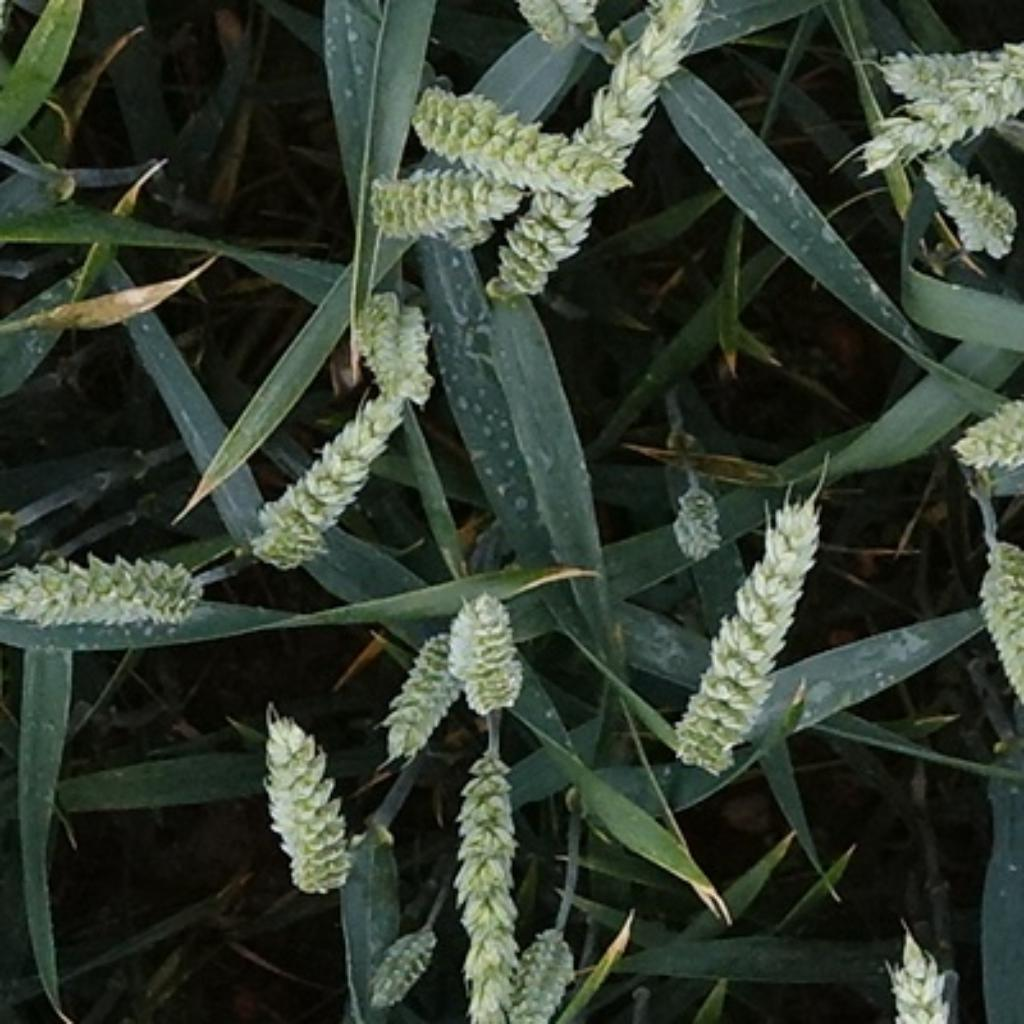0-0: (501, 0, 706, 312), (657, 496, 824, 775), (235, 392, 412, 579), (2, 532, 216, 650), (859, 50, 1024, 190), (450, 742, 530, 1024), (248, 704, 363, 898), (405, 74, 599, 177), (368, 601, 476, 778), (358, 153, 528, 252), (916, 143, 1024, 267), (437, 581, 529, 714), (967, 527, 1024, 737), (343, 289, 437, 412), (875, 921, 972, 1024), (878, 43, 1022, 108), (945, 387, 1024, 488), (663, 468, 736, 576), (360, 924, 442, 1013), (509, 918, 573, 1023), (508, 0, 604, 53)
